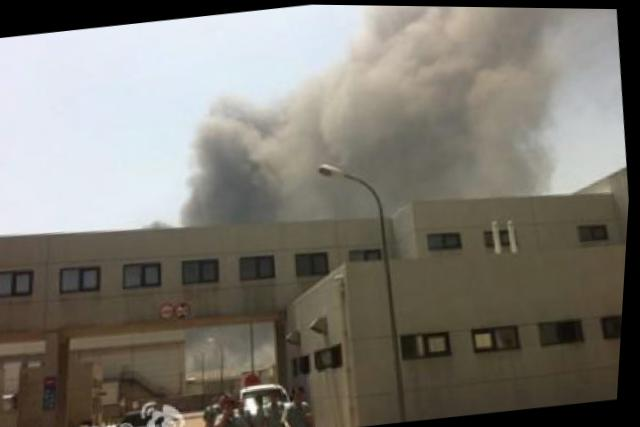smoke: (271, 72, 570, 221), (351, 4, 620, 100), (171, 75, 290, 231), (288, 51, 364, 108)
